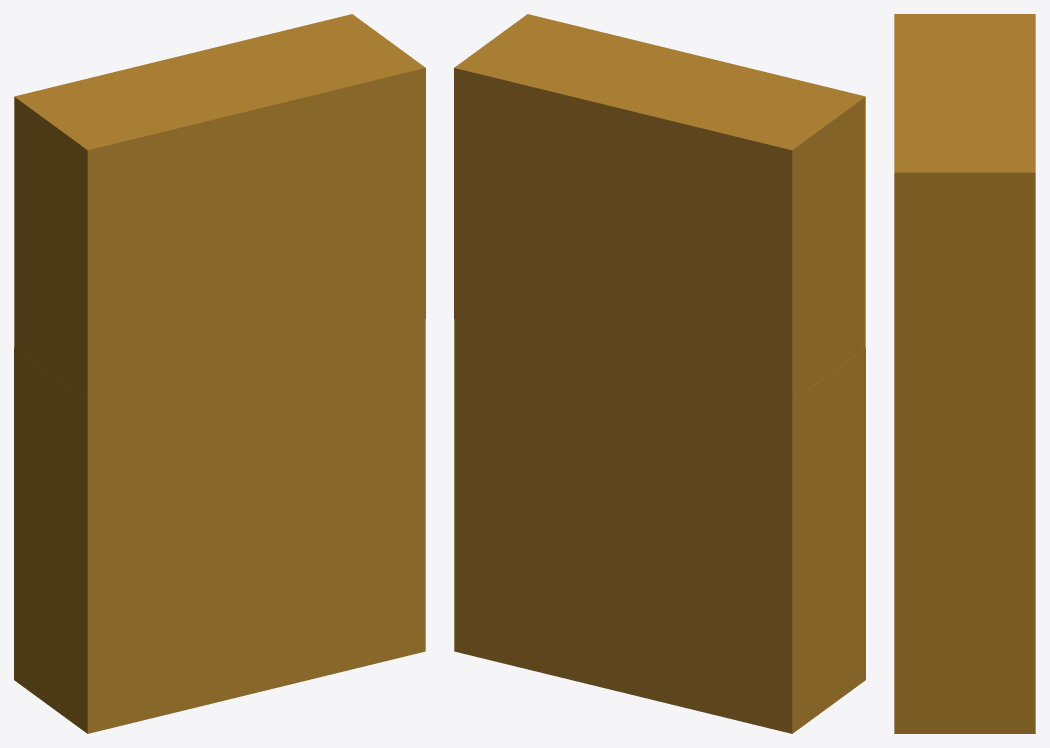
The model's file is Lighter_02.fbx.
3 views of the same model, side by side, from view 1: azimuth 30°, elevation 25°; view 2: azimuth 150°, elevation 25°; view 3: azimuth 270°, elevation 25° (orthographic). The views are drawn at different scales.
Visible parts, largest first — view 1: Lighter_02_p1, Lighter_02_p2; view 2: Lighter_02_p1, Lighter_02_p2; view 3: Lighter_02_p2, Lighter_02_p1.
Part boxes in pixels (x1,y1,x2,y2): Lighter_02_p1: (14,319,425,733); Lighter_02_p2: (14,14,425,401); Lighter_02_p1: (454,319,865,733); Lighter_02_p2: (454,14,865,401); Lighter_02_p2: (894,14,1035,413); Lighter_02_p1: (894,414,1035,733).
Size of the model in its own units: 11.53 by 19.01 by 4.34.
